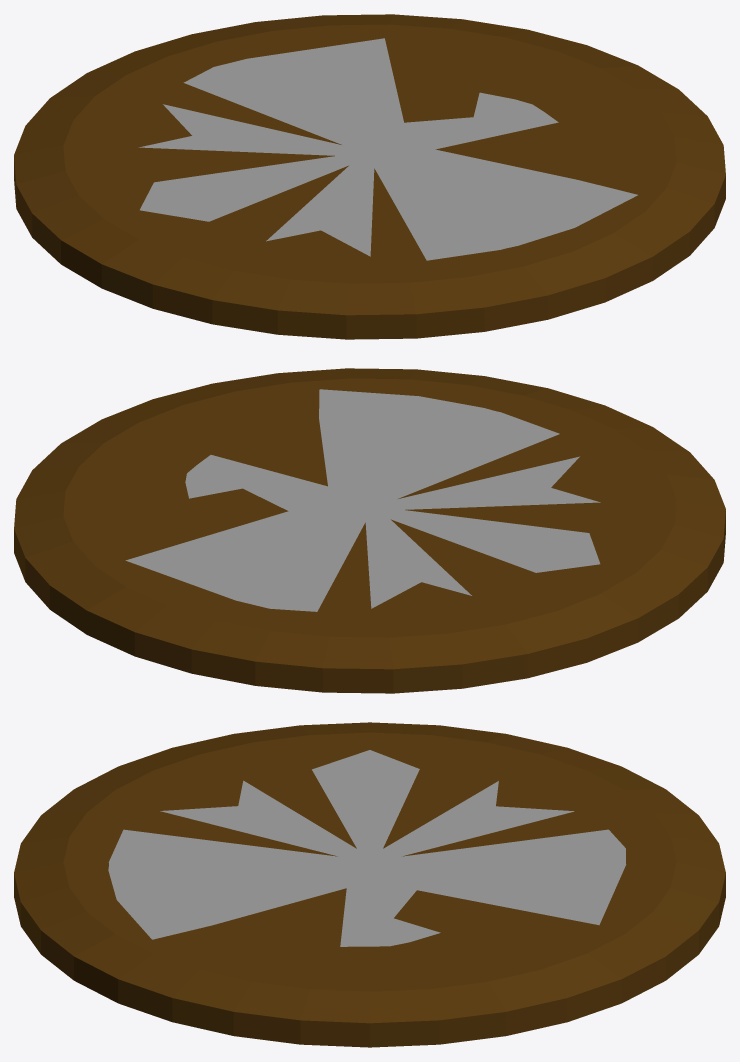
Rendered from PodstawkaPol.fbx.
3 views of the same model, one above another, from view 1: azimuth 30°, elevation 25°; view 2: azimuth 150°, elevation 25°; view 3: azimuth 270°, elevation 25° (orthographic).
Visible parts, largest first — view 1: PolPodstawka; view 2: PolPodstawka; view 3: PolPodstawka.
Part boxes in pixels (bbox=[...]): PolPodstawka: bbox=[14, 14, 725, 339]; PolPodstawka: bbox=[14, 368, 725, 693]; PolPodstawka: bbox=[14, 722, 725, 1047].
Size of the model in its own units: 259 by 14.07 by 259.
